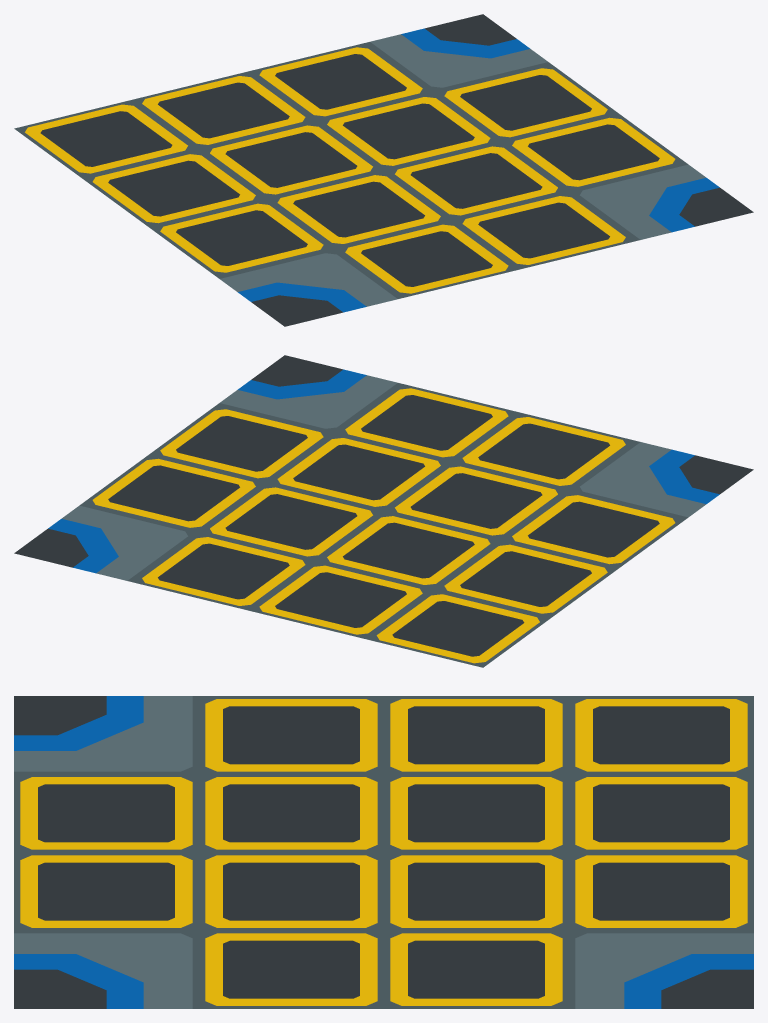
Rendered from Floor_type_C_011.fbx.
3 renders of one model, top to bottom at view 1: azimuth 30°, elevation 25°; view 2: azimuth 150°, elevation 25°; view 3: azimuth 270°, elevation 25°, orthographic. The views are drawn at different scales.
Visible parts, largest first — view 1: Floor_type_C_011; view 2: Floor_type_C_011; view 3: Floor_type_C_011.
Boxes of the visible parts, left/top/right/bottom form: Floor_type_C_011: left=14, top=14, right=753, bottom=326; Floor_type_C_011: left=14, top=355, right=753, bottom=667; Floor_type_C_011: left=14, top=696, right=753, bottom=1008.
Size of the model in its own units: 400 by 400 by 1.69e-21.
